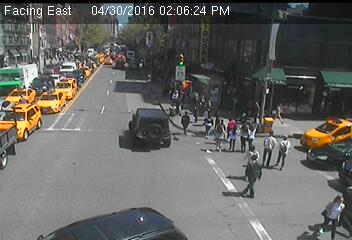neg: (28, 192, 55, 228), (179, 172, 202, 203), (214, 58, 236, 87), (8, 115, 28, 143), (40, 139, 60, 165), (288, 23, 307, 48), (72, 160, 89, 183), (12, 170, 29, 193), (119, 31, 135, 53), (159, 47, 175, 69), (190, 12, 206, 33), (277, 190, 293, 211), (91, 134, 106, 154), (300, 80, 315, 100), (158, 178, 173, 198), (111, 176, 125, 195), (30, 88, 44, 107), (241, 33, 255, 51), (39, 46, 53, 64), (145, 121, 158, 139), (316, 116, 329, 134), (76, 80, 89, 97), (285, 171, 298, 188), (52, 100, 63, 115), (304, 154, 314, 167), (247, 211, 257, 224), (73, 43, 83, 56), (113, 102, 123, 114), (149, 149, 158, 161), (136, 9, 145, 21), (97, 3, 106, 14), (183, 152, 189, 160)
pos: (317, 189, 351, 234), (253, 126, 285, 168), (238, 154, 269, 195), (268, 132, 299, 172), (230, 118, 258, 156), (219, 120, 245, 154), (198, 111, 220, 140), (208, 120, 228, 147), (243, 116, 262, 142), (177, 110, 195, 134), (269, 100, 285, 120), (244, 142, 258, 161), (250, 99, 263, 117)
